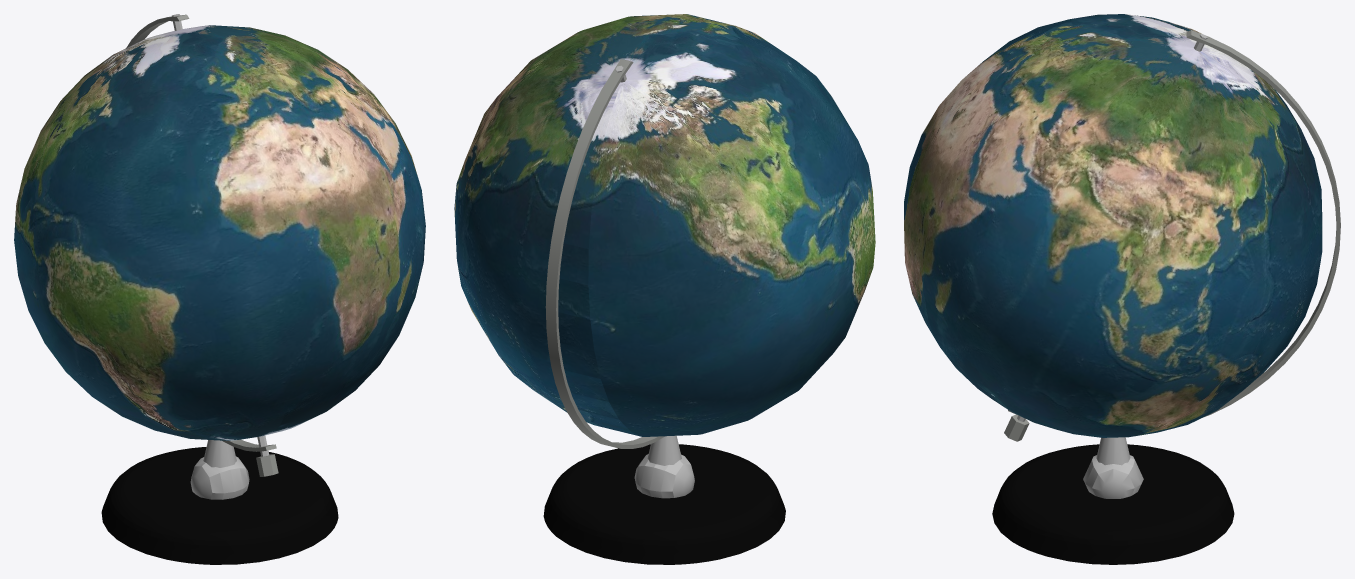
File: Globo Terraqueo.glb
The picture shows the model from 3 angles, left to right: view 1: azimuth 30°, elevation 25°; view 2: azimuth 150°, elevation 25°; view 3: azimuth 270°, elevation 25°; orthographic projection. The views are drawn at different scales.
Parts seen in each view (by area): view 1: c51b6e9e-265d-40f6-b4f8-9dd9a234f060, 095dc33f-8dd9-49b7-a1c0-6d8f3e3bb019, 5d41b3d9-36eb-43e4-b522-504e27793b3d, db74aa7b-d789-4027-a3d4-ee6125847c0c, 427fa05c-45f1-4202-abb3-50b048d421a8; view 2: c51b6e9e-265d-40f6-b4f8-9dd9a234f060, 095dc33f-8dd9-49b7-a1c0-6d8f3e3bb019, db74aa7b-d789-4027-a3d4-ee6125847c0c, 5d41b3d9-36eb-43e4-b522-504e27793b3d, 427fa05c-45f1-4202-abb3-50b048d421a8; view 3: c51b6e9e-265d-40f6-b4f8-9dd9a234f060, 095dc33f-8dd9-49b7-a1c0-6d8f3e3bb019, db74aa7b-d789-4027-a3d4-ee6125847c0c, 5d41b3d9-36eb-43e4-b522-504e27793b3d, 427fa05c-45f1-4202-abb3-50b048d421a8.
Part boxes in pixels (x1,y1,x2,y2): c51b6e9e-265d-40f6-b4f8-9dd9a234f060: (14, 25, 425, 440); 095dc33f-8dd9-49b7-a1c0-6d8f3e3bb019: (101, 447, 338, 564); 5d41b3d9-36eb-43e4-b522-504e27793b3d: (190, 456, 249, 499); db74aa7b-d789-4027-a3d4-ee6125847c0c: (126, 14, 276, 451); 427fa05c-45f1-4202-abb3-50b048d421a8: (203, 440, 236, 467); c51b6e9e-265d-40f6-b4f8-9dd9a234f060: (454, 14, 875, 436); 095dc33f-8dd9-49b7-a1c0-6d8f3e3bb019: (543, 444, 785, 564); db74aa7b-d789-4027-a3d4-ee6125847c0c: (545, 59, 664, 448); 5d41b3d9-36eb-43e4-b522-504e27793b3d: (634, 454, 694, 498); 427fa05c-45f1-4202-abb3-50b048d421a8: (647, 435, 681, 465); c51b6e9e-265d-40f6-b4f8-9dd9a234f060: (904, 14, 1322, 437); 095dc33f-8dd9-49b7-a1c0-6d8f3e3bb019: (992, 444, 1234, 564); db74aa7b-d789-4027-a3d4-ee6125847c0c: (1008, 30, 1340, 417); 5d41b3d9-36eb-43e4-b522-504e27793b3d: (1083, 455, 1143, 498); 427fa05c-45f1-4202-abb3-50b048d421a8: (1096, 437, 1130, 465).
Bounding box in the file's own units: 0.2499 × 0.3125 × 0.257.
Materials: 4 (2 with a texture image).
